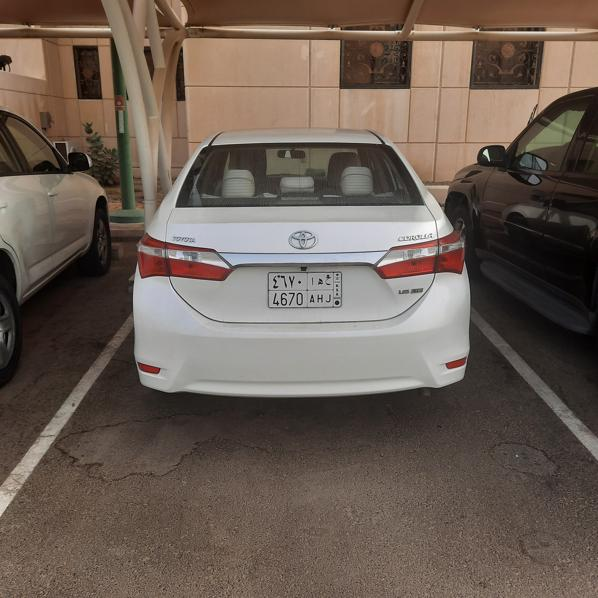numberplate: (267, 271, 343, 308)
